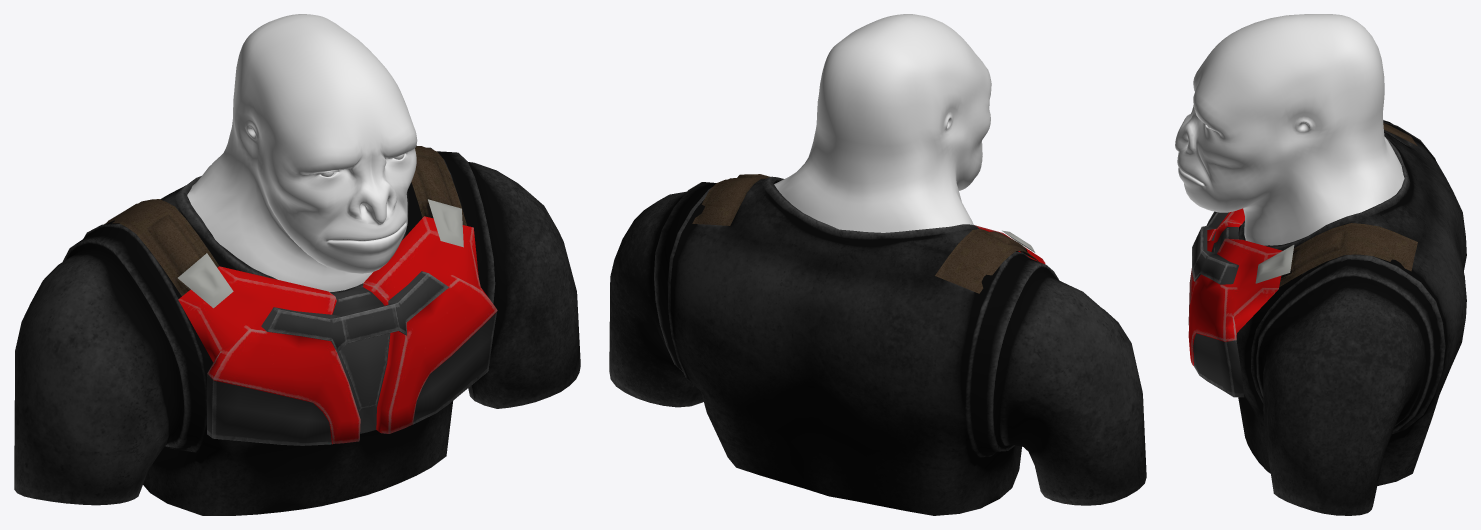
File: Craig.fbx
The picture shows the model from 3 angles, left to right: view 1: azimuth 30°, elevation 25°; view 2: azimuth 150°, elevation 25°; view 3: azimuth 270°, elevation 25°; orthographic projection. The views are drawn at different scales.
Parts seen in each view (by area): view 1: Abi.004, Abi; view 2: Abi.004, Abi; view 3: Abi.004, Abi.
Boxes of the visible parts, x1,y1,x2,y2 form: Abi.004: [14, 145, 580, 515]; Abi: [187, 14, 417, 291]; Abi.004: [609, 174, 1146, 515]; Abi: [774, 14, 991, 232]; Abi.004: [1188, 120, 1466, 515]; Abi: [1175, 14, 1404, 245].
Size of the model in its own units: 1276 by 986 by 638.
